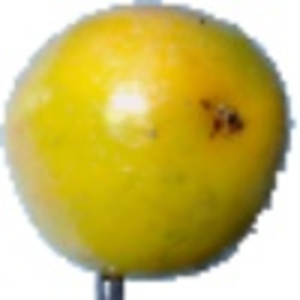maracujá: (1, 1, 298, 300)
